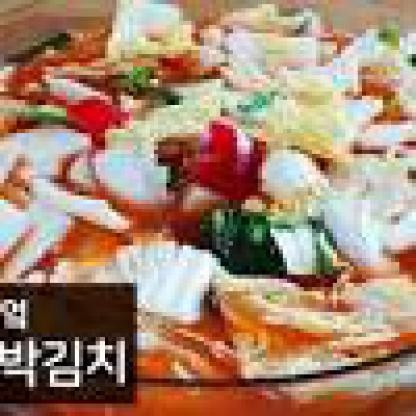nabak Kimchi: (4, 0, 412, 375)
